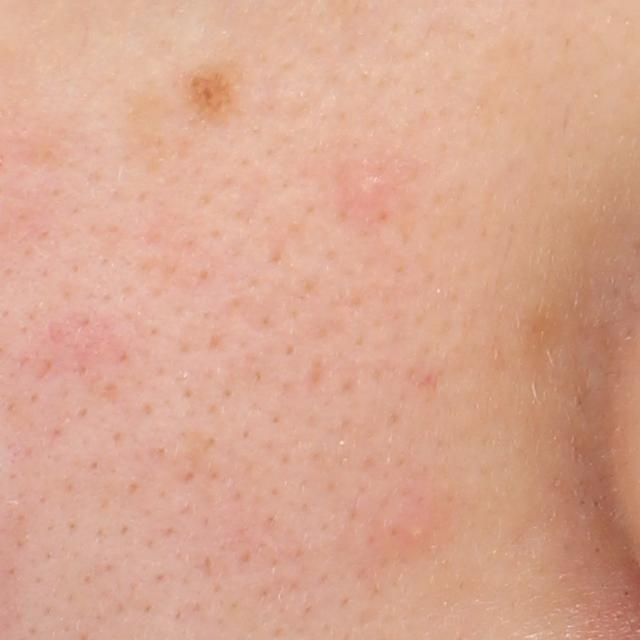nevus: (188, 56, 242, 122)
